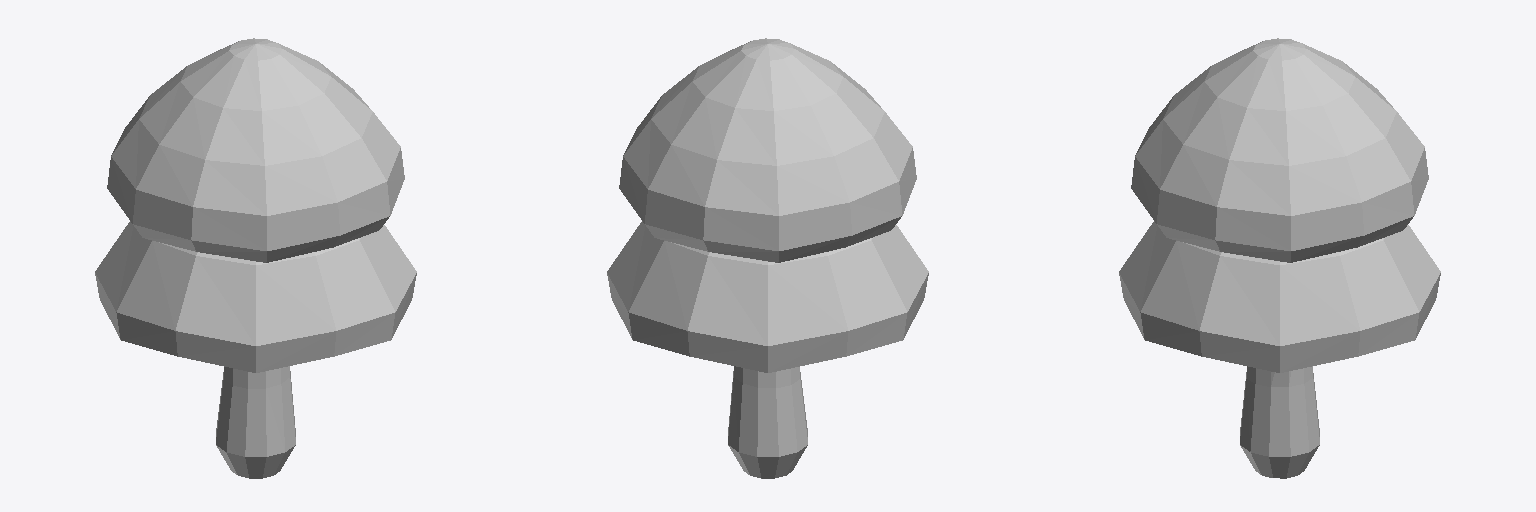
The model's file is tree_small.obj.
3 renders of one model, left to right at view 1: azimuth 30°, elevation 25°; view 2: azimuth 150°, elevation 25°; view 3: azimuth 270°, elevation 25°, orthographic.
Parts seen in each view (by area): view 1: tree_small; view 2: tree_small; view 3: tree_small.
Part boxes in pixels (bbox=[...]): tree_small: bbox=[95, 38, 416, 478]; tree_small: bbox=[607, 38, 928, 478]; tree_small: bbox=[1119, 38, 1440, 478].
Bounding box in the file's own units: 1.98 × 2.88 × 1.98.